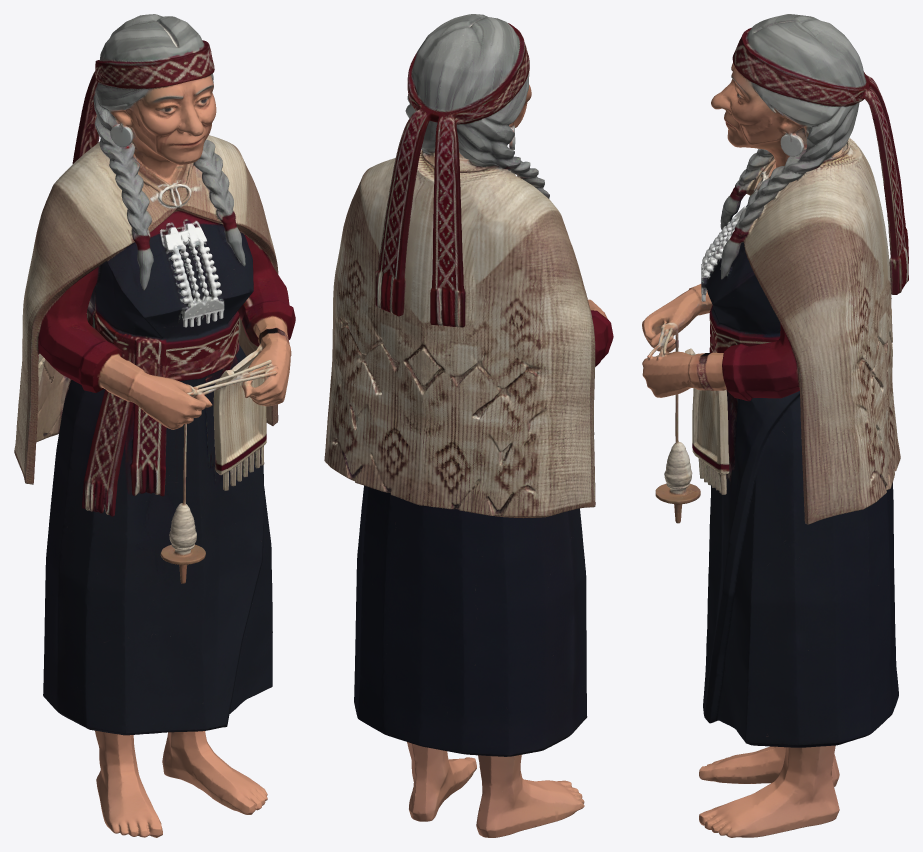
File: Rosa_Meshy_2.glb
3 renders of one model, left to right at view 1: azimuth 30°, elevation 25°; view 2: azimuth 150°, elevation 25°; view 3: azimuth 270°, elevation 25°, orthographic. The views are drawn at different scales.
Visible parts, largest first — view 1: Mesh_0.001; view 2: Mesh_0.001; view 3: Mesh_0.001.
Boxes of the visible parts, bbox=[...] form: Mesh_0.001: bbox=[14, 14, 295, 837]; Mesh_0.001: bbox=[324, 14, 613, 837]; Mesh_0.001: bbox=[642, 14, 908, 837].
Bounding box in the file's own units: 0.6152 × 1.8 × 0.5557.
1 material, 1 textured.
